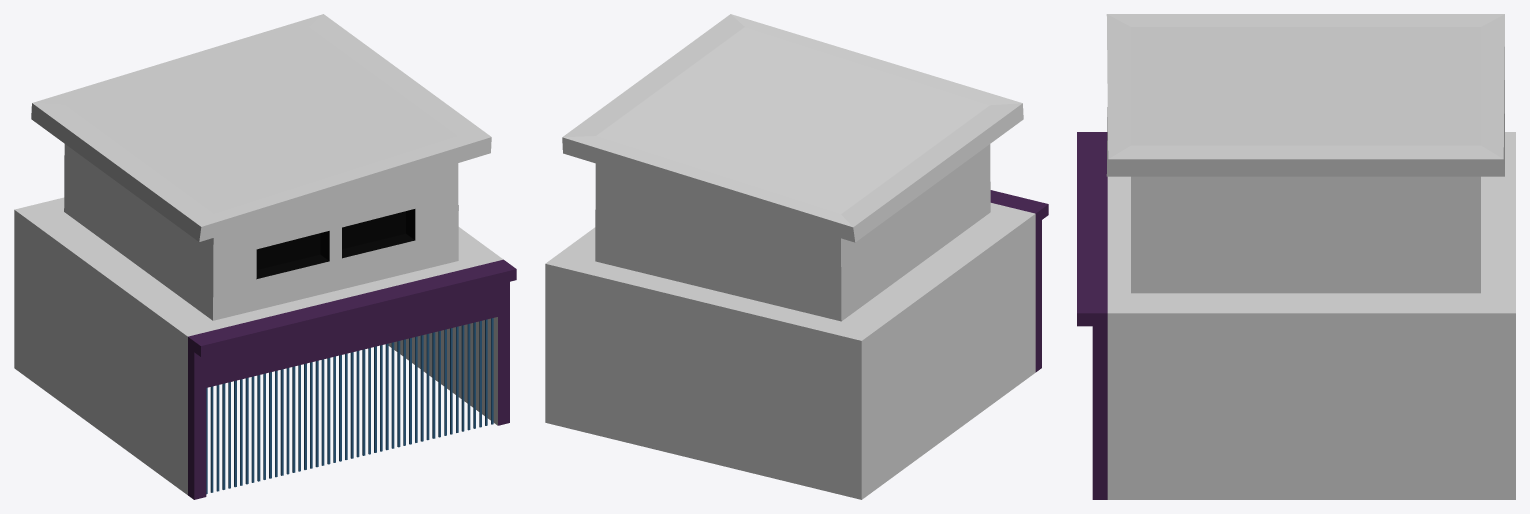
File: loja_33.fbx
3 renders of one model, left to right at view 1: azimuth 30°, elevation 25°; view 2: azimuth 150°, elevation 25°; view 3: azimuth 270°, elevation 25°, orthographic. The views are drawn at different scales.
Parts seen in each view (by area): view 1: Cube; view 2: Cube; view 3: Cube.
Boxes of the visible parts, x1,y1,x2,y2 form: Cube: (14, 14, 516, 499); Cube: (545, 14, 1048, 499); Cube: (1077, 14, 1515, 499).
Size of the model in its own units: 2419 by 2078 by 2475.
